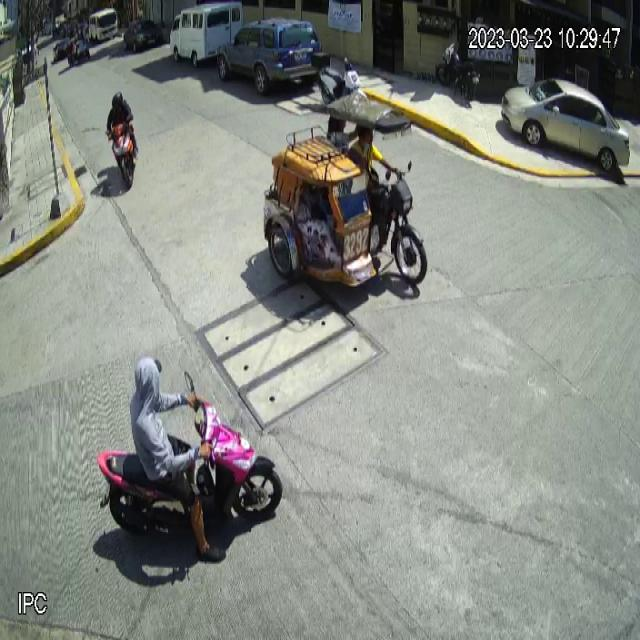Car: (502, 76, 630, 174), (215, 18, 323, 95)
Motorcycle: (315, 56, 369, 121)
Tricycle: (259, 99, 432, 300), (94, 370, 284, 537)
Van: (169, 1, 244, 68)
